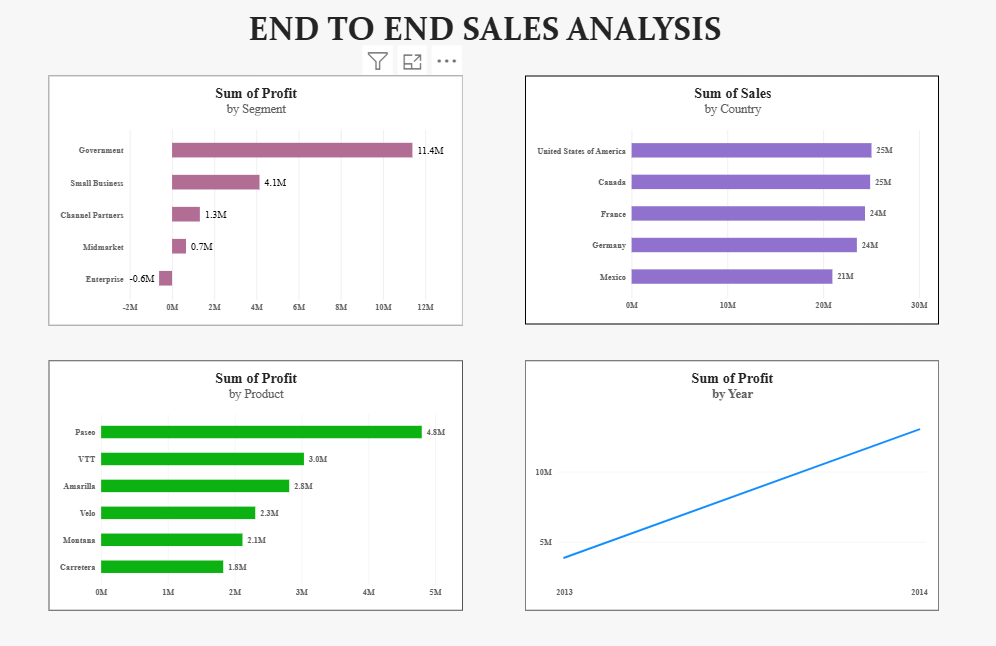

What the dashboard file says about the page in this screenshot:
{"tool":"powerbi","page":{"name":"Page 1","canvas":[1920,1080],"ordinal":0},"visuals":[{"type":"clusteredBarChart","fields":{"Category":["Segment_Profit.Segment"],"Y":["Sum(Segment_Profit.Profit)"]},"box":[262,140,662,400],"z":0},{"type":"clusteredBarChart","fields":{"Category":["Country_Sales.Country"],"Y":["Sum(Country_Sales.Sales)"]},"box":[1024,140,662,398],"z":1000},{"type":"clusteredBarChart","fields":{"Category":["Product_Profit.Product"],"Y":["Sum(Product_Profit.Profit)"]},"box":[262,596,662,400],"z":2000},{"type":"lineChart","fields":{"Category":["Yearly_Profit.Year"],"Y":["Sum(Yearly_Profit.Profit)"]},"box":[1024,596,662,400],"z":3000},{"type":"textbox","box":[0,616,218,429],"z":5000},{"type":"textbox","box":[454,32,1012,76],"z":6000}]}

Visuals, with their boxes on the page's 1920x1080 design canvas (x1, y1, x2, y2). These are canvas units, not pixel positions in the 996x646 screenshot, which may show the page scaled, cropped or inside an application window:
clusteredBarChart - Segment_Profit.Segment x Sum(Segment_Profit.Profit): x1=262, y1=140, x2=924, y2=540
clusteredBarChart - Country_Sales.Country x Sum(Country_Sales.Sales): x1=1024, y1=140, x2=1686, y2=538
clusteredBarChart - Product_Profit.Product x Sum(Product_Profit.Profit): x1=262, y1=596, x2=924, y2=996
lineChart - Yearly_Profit.Year x Sum(Yearly_Profit.Profit): x1=1024, y1=596, x2=1686, y2=996
textbox: x1=0, y1=616, x2=218, y2=1045
textbox: x1=454, y1=32, x2=1466, y2=108
